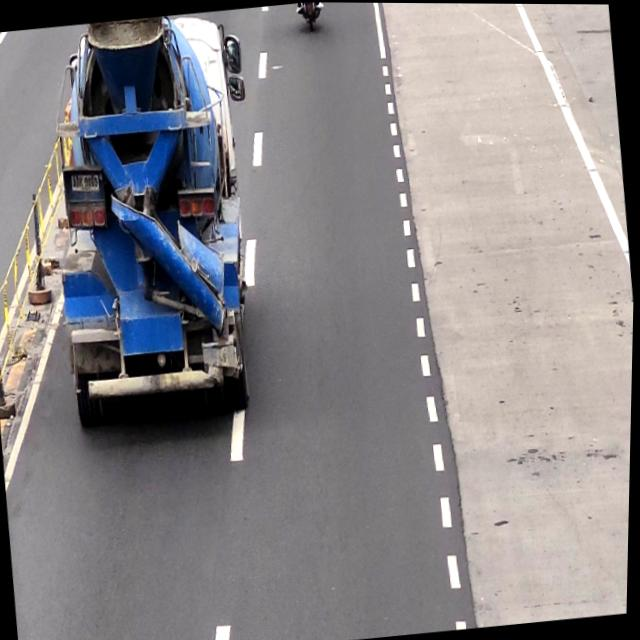License-Plate: (70, 173, 102, 193)
Truck: (41, 8, 268, 428)
